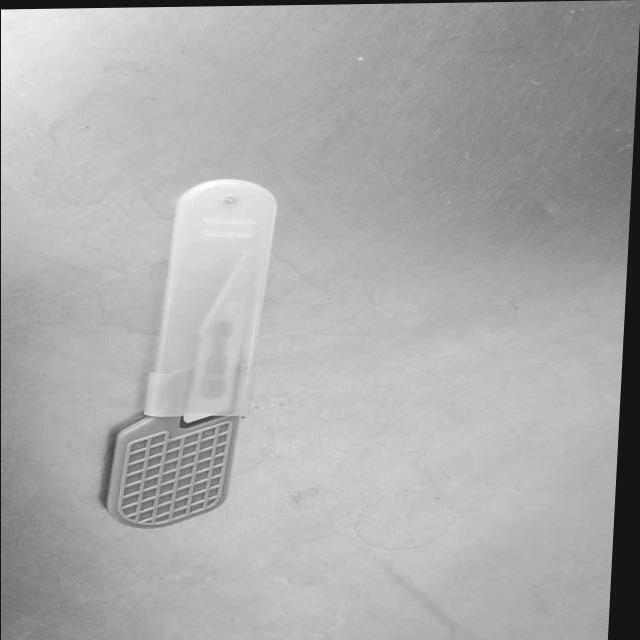Sharps: (104, 177, 279, 529)
